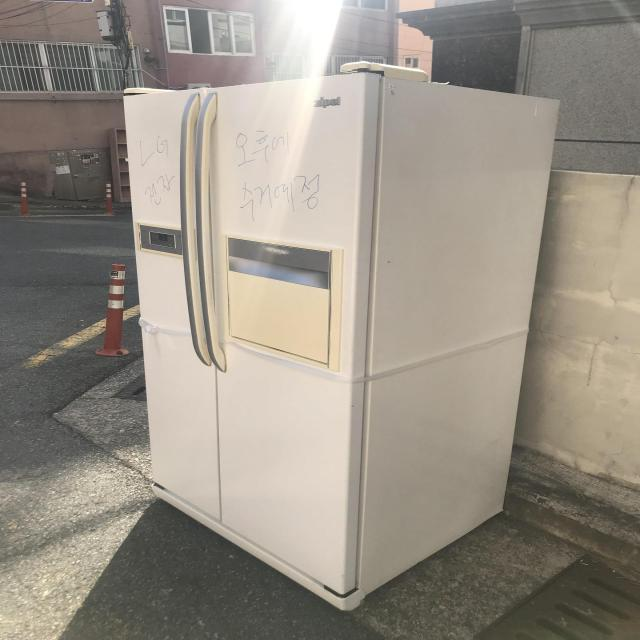refrigerator: (110, 62, 563, 613)
